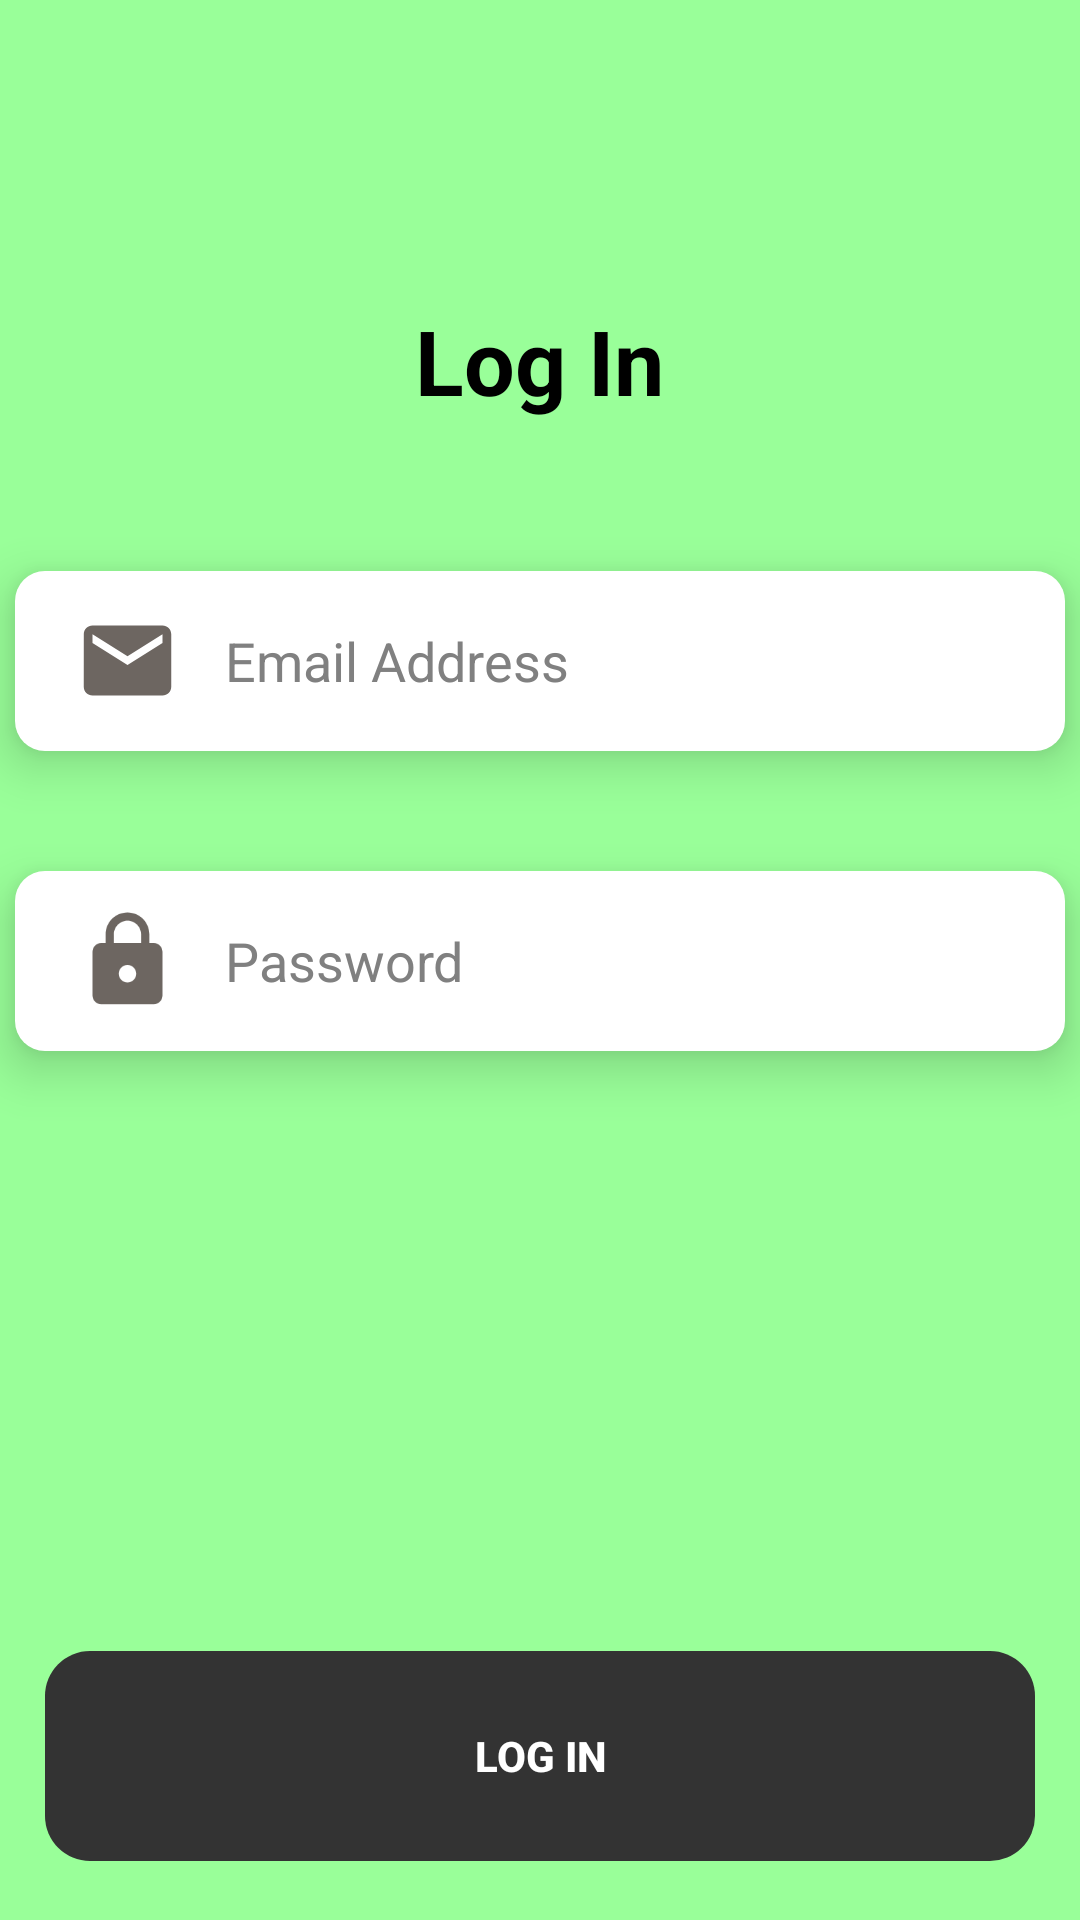

Screen size 1080 × 1920. Icon name, then its center in pixels as (x,y):
lock: (127,958)
